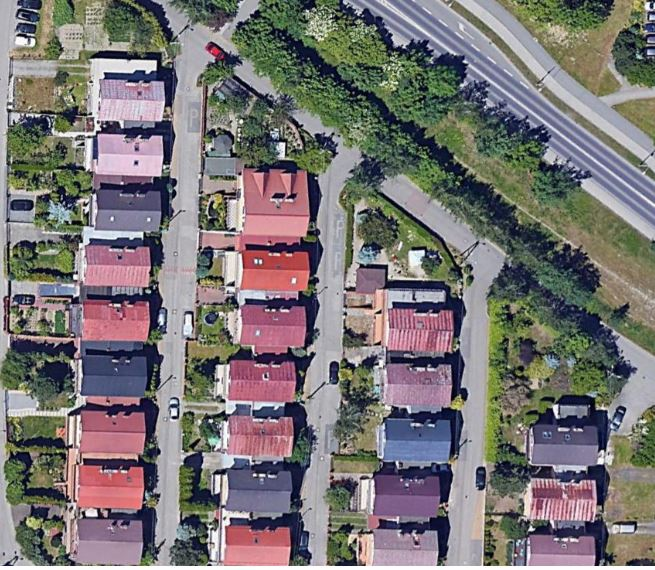family house: (236, 161, 312, 240), (73, 460, 147, 512), (223, 410, 295, 462), (219, 463, 291, 515), (233, 249, 312, 295), (380, 303, 453, 352), (523, 420, 596, 469), (525, 476, 598, 525), (369, 470, 443, 518), (379, 416, 453, 464), (380, 360, 454, 408), (88, 187, 165, 233), (79, 242, 155, 288), (71, 516, 142, 565), (95, 75, 167, 123), (79, 295, 151, 343), (76, 406, 147, 453), (93, 132, 167, 176), (74, 354, 148, 398), (234, 304, 308, 348), (223, 359, 297, 403), (365, 524, 439, 566), (222, 524, 293, 565), (523, 531, 597, 568)
